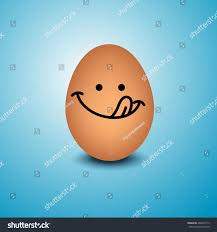egg: (65, 44, 154, 161)
